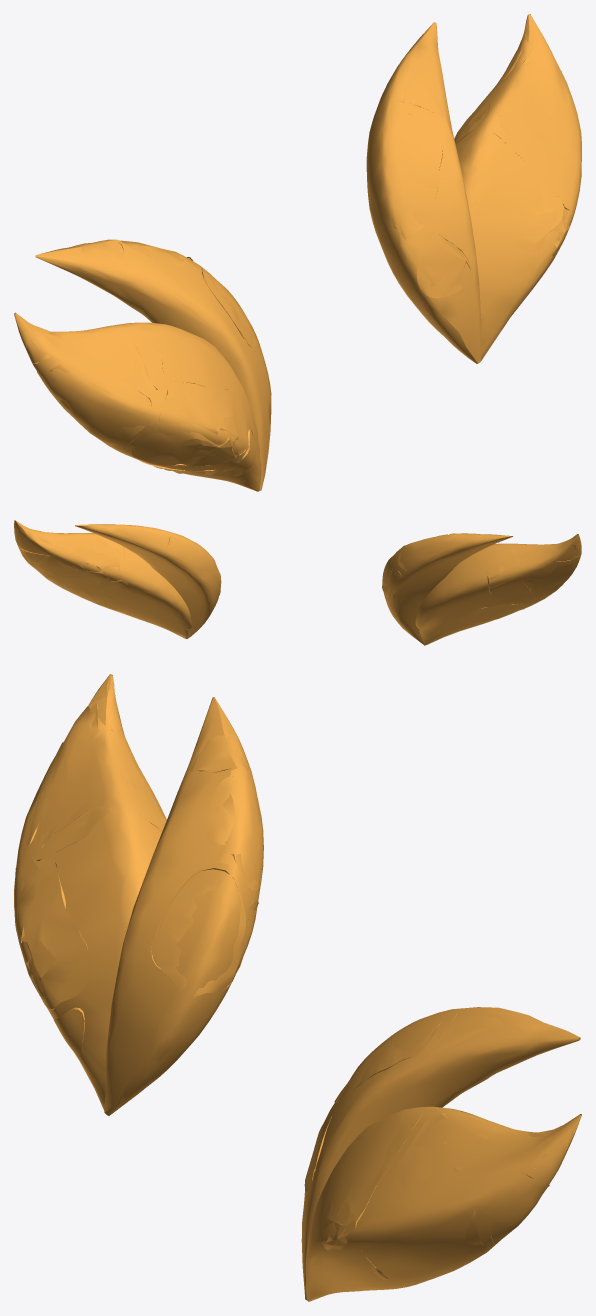
3 renders of one model, top to bottom at view 1: azimuth 30°, elevation 25°; view 2: azimuth 150°, elevation 25°; view 3: azimuth 270°, elevation 25°, orthographic. The views are drawn at different scales.
Visible parts, largest first — view 1: eye_brow_005; view 2: eye_brow_005; view 3: eye_brow_005.
Part boxes in pixels (bbox=[...]): eye_brow_005: bbox=[14, 14, 581, 491]; eye_brow_005: bbox=[14, 520, 581, 645]; eye_brow_005: bbox=[14, 674, 581, 1301].
Size of the model in its own units: 41.16 by 22.77 by 13.87.
